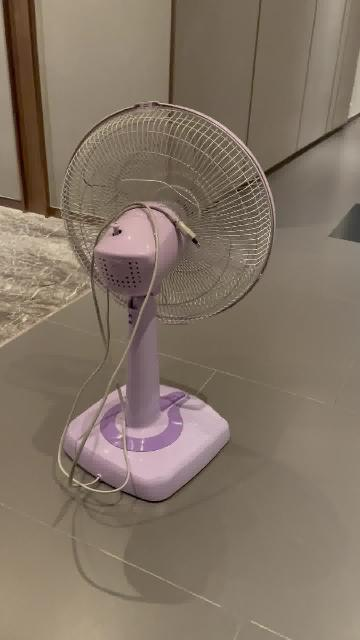Fan: (62, 103, 276, 504)
